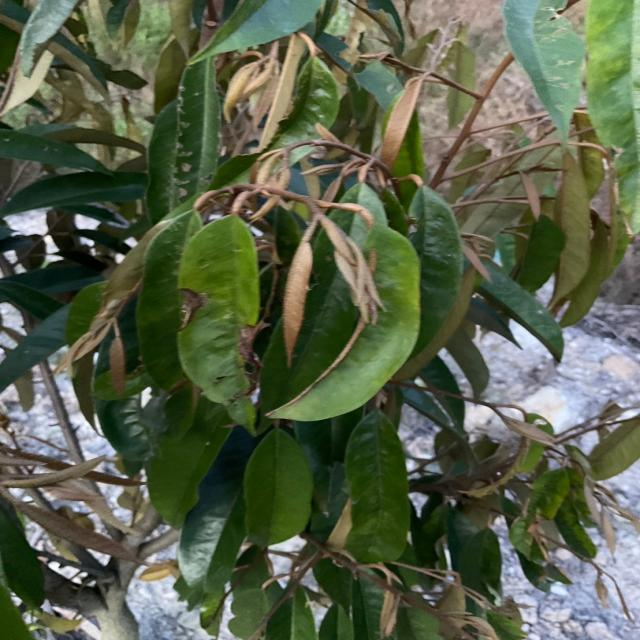Leaf Spot: (178, 218, 261, 402)
